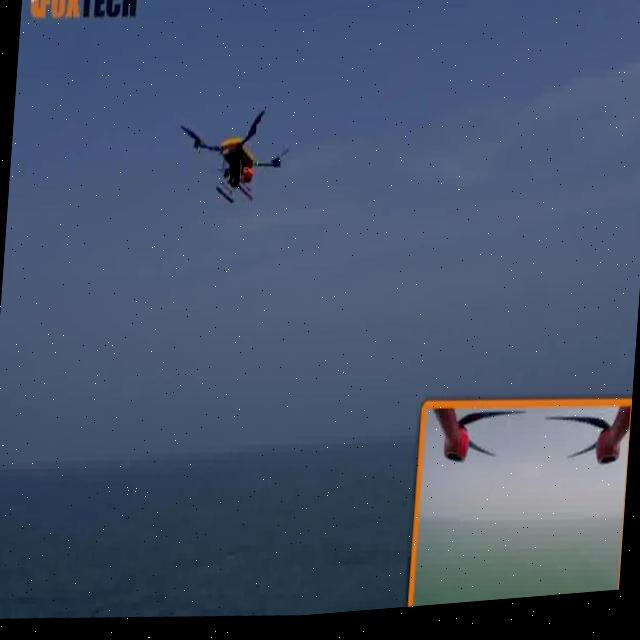drone: (179, 73, 296, 225)
